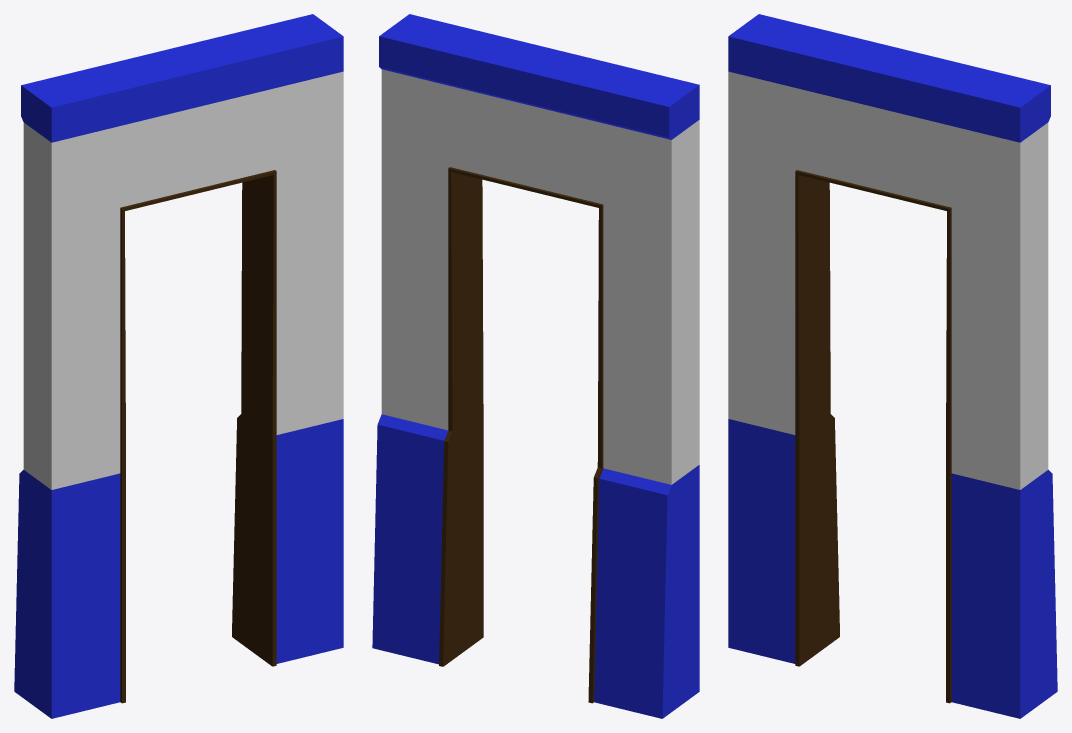
File: walldoor2.fbx
3 views of the same model, side by side, from view 1: azimuth 30°, elevation 25°; view 2: azimuth 150°, elevation 25°; view 3: azimuth 330°, elevation 25° (orthographic).
Parts seen in each view (by area): view 1: Cube; view 2: Cube; view 3: Cube.
Part boxes in pixels (left/top/right/bottom): Cube: left=14, top=14, right=343, bottom=718; Cube: left=372, top=14, right=699, bottom=718; Cube: left=728, top=14, right=1057, bottom=718.
Bounding box in the file's own units: 600 × 1200 × 145.
